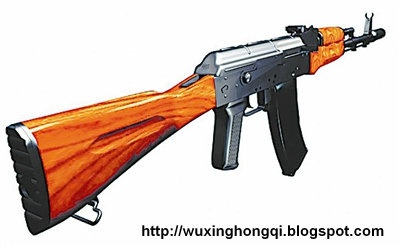ak47: (19, 13, 386, 236)
